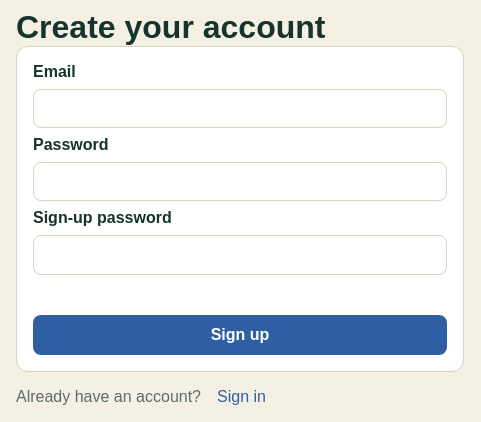
Test: a wrong sign-up password shows the backend's message and stays on sign-up
Type "dana@example.com" into the field labelled "Email" at {"x": 240, "y": 109}, box [33,89,447,128]
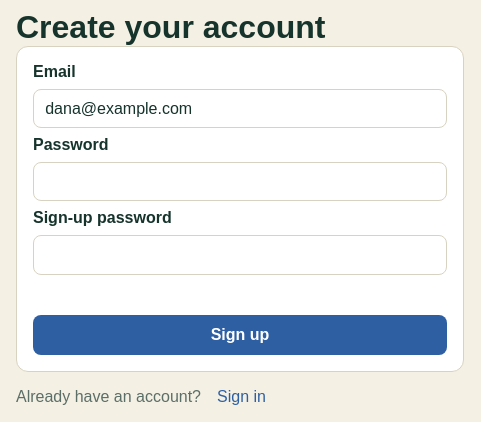
Type "cornhole1" into the password field labelled "Password" at {"x": 240, "y": 182}, box [33,162,447,201]
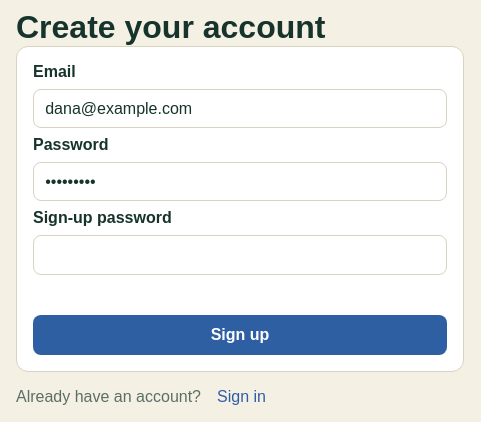
Type "nope" into the password field labelled "Sign-up password" at {"x": 240, "y": 255}, box [33,235,447,275]
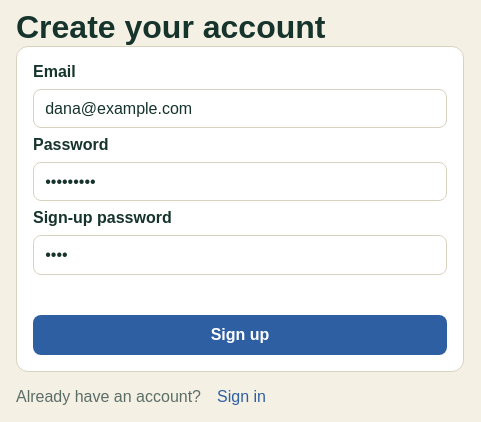
Click the button "Sign up" at {"x": 240, "y": 335}, box [33,315,447,355]
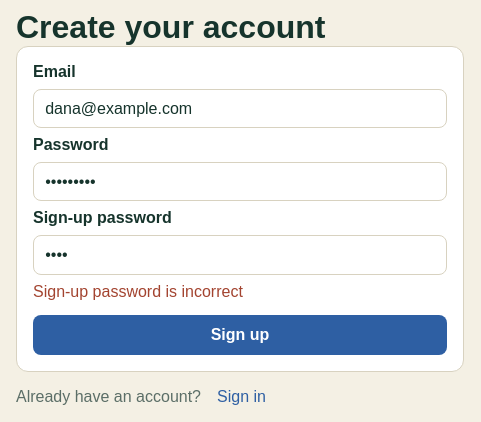
Now the text "Sign-up password is incorrect" is shown, box [33,283,243,300]
